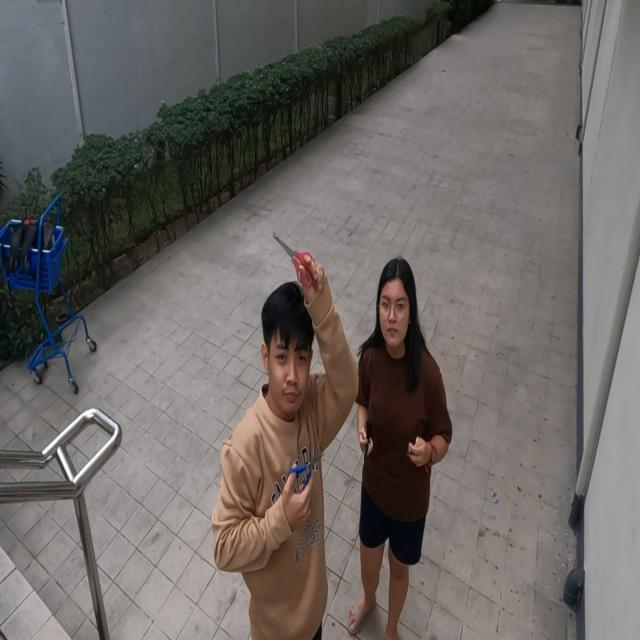scissor: (273, 230, 318, 288), (288, 442, 325, 498)
